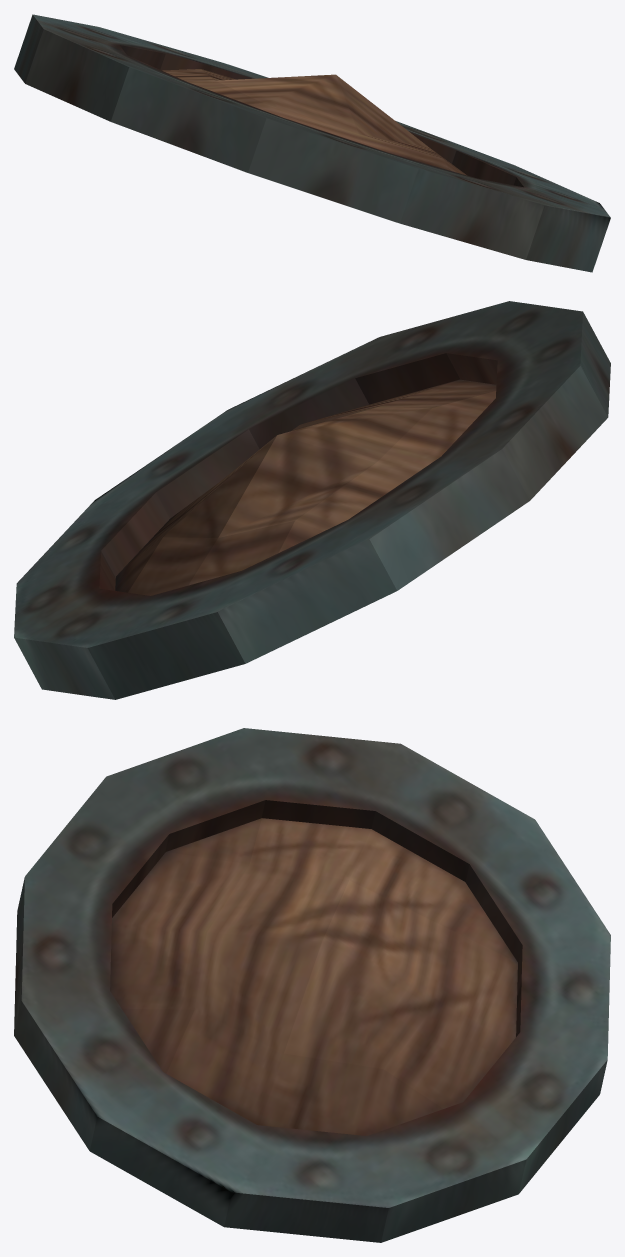
The model's file is 盾牌  陳彥豪.fbx.
3 views of the same model, one above another, from view 1: azimuth 30°, elevation 25°; view 2: azimuth 150°, elevation 25°; view 3: azimuth 270°, elevation 25° (orthographic). The views are drawn at different scales.
Parts seen in each view (by area): view 1: 圓柱體.001; view 2: 圓柱體.001; view 3: 圓柱體.001.
Boxes of the visible parts, x1=… form: 圓柱體.001: x1=14, y1=14, x2=610, y2=272; 圓柱體.001: x1=14, y1=301, x2=610, y2=699; 圓柱體.001: x1=14, y1=728, x2=610, y2=1242.
Size of the model in its own units: 25.57 by 15.37 by 27.23.
Materials: 2 (2 with a texture image).
